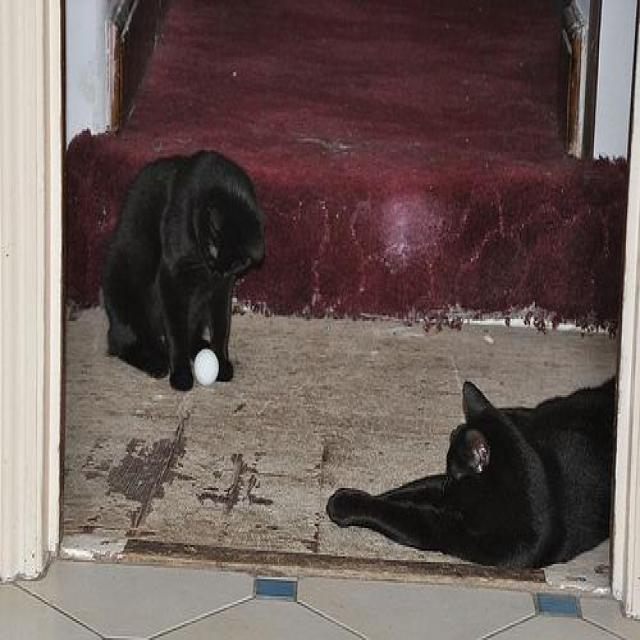ping-pong-ball: (194, 348, 219, 387)
